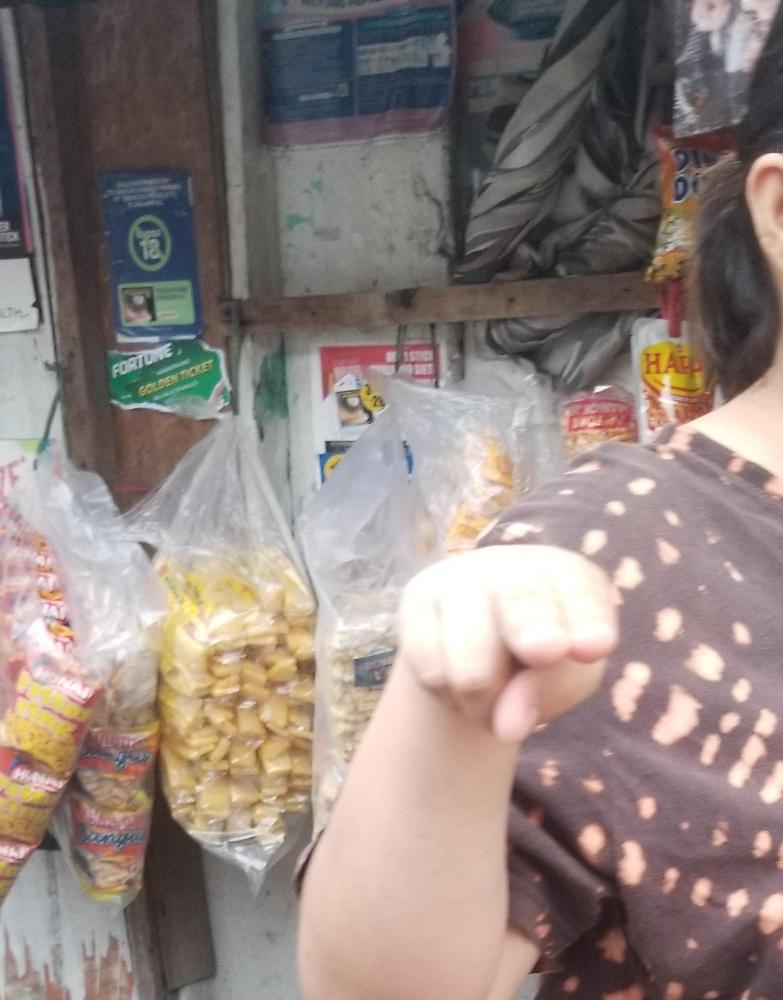n: (396, 540, 623, 743)
